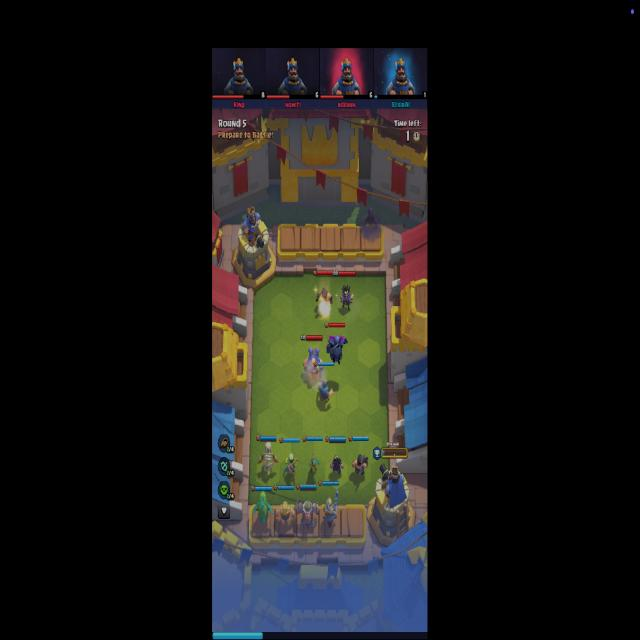baby_dragon: (252, 491, 273, 527)
dart_goblin: (308, 452, 320, 475)
e_wiz: (340, 284, 353, 312), (330, 455, 344, 476)
electro_giant: (303, 348, 325, 380)
executioner: (316, 284, 332, 313), (352, 454, 368, 476)
goblin_machine: (296, 498, 320, 528)
golden_knight: (275, 501, 295, 525)
knight: (318, 378, 334, 403)
pekka: (326, 335, 348, 365)
prince: (323, 490, 339, 530)
skeleton_dragon: (259, 442, 278, 477)
spear_goblin: (285, 453, 299, 477)
